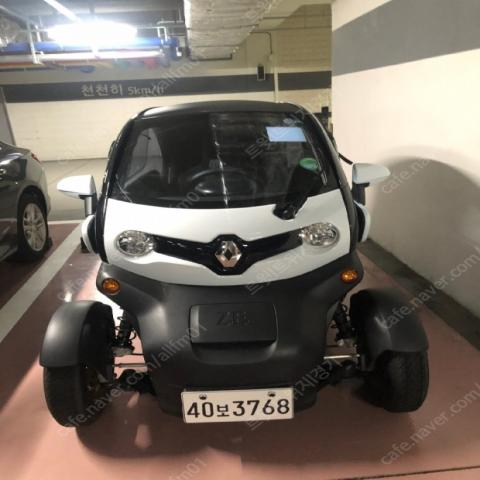LP: (171, 380, 306, 431)
